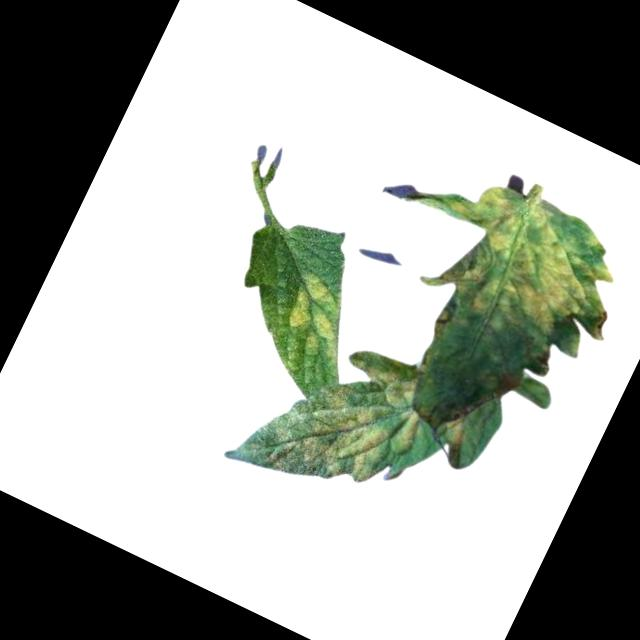Leaf_Mold: (413, 167, 640, 373), (267, 362, 423, 506), (275, 270, 364, 364), (340, 347, 422, 413), (440, 416, 471, 450)
